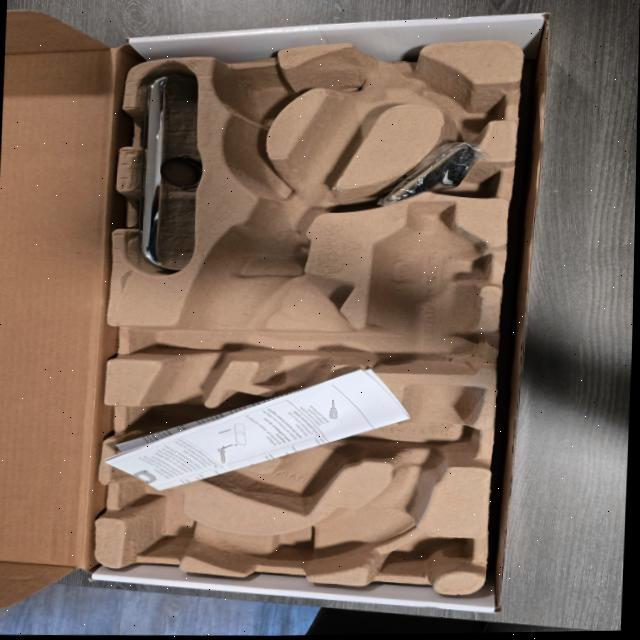1m: (117, 45, 482, 575)
2m: (183, 407, 359, 515)
3m: (369, 198, 487, 373)
4: (137, 73, 204, 269)
5m: (223, 75, 291, 122)
6m: (411, 69, 507, 134)
7: (370, 140, 491, 205)
8: (102, 368, 410, 490)
